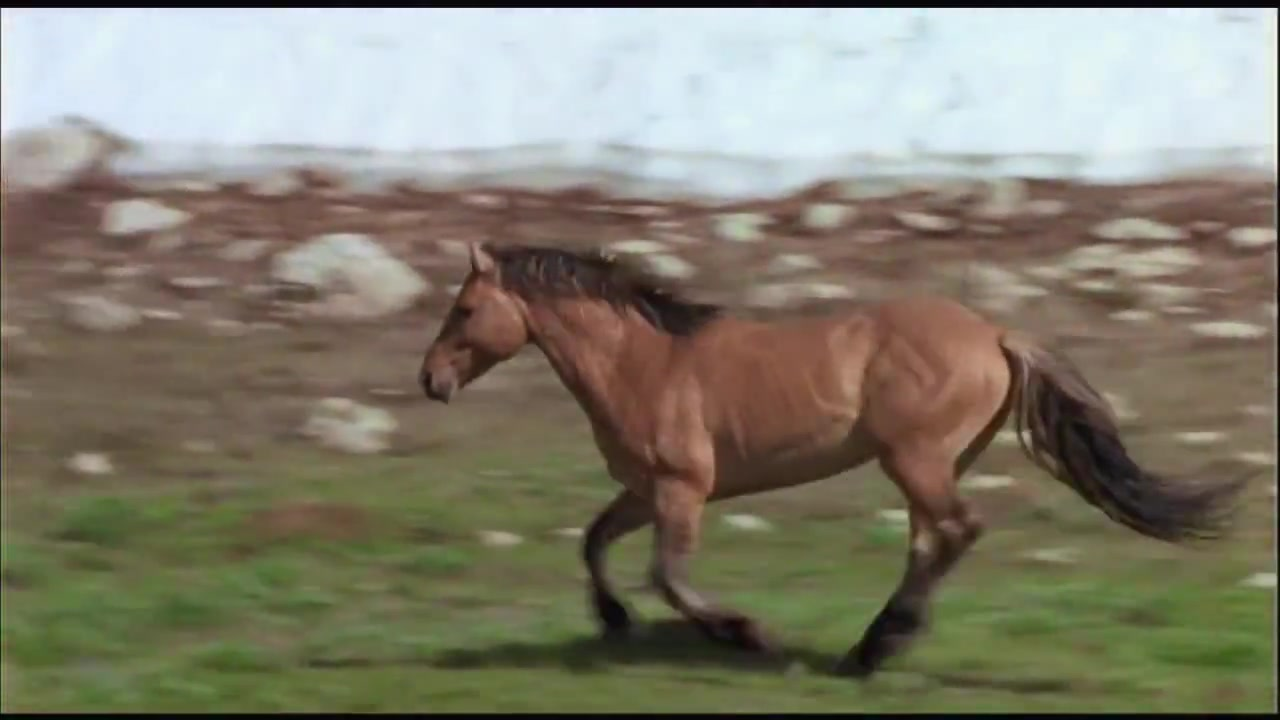horse: (417, 241, 1261, 681)
